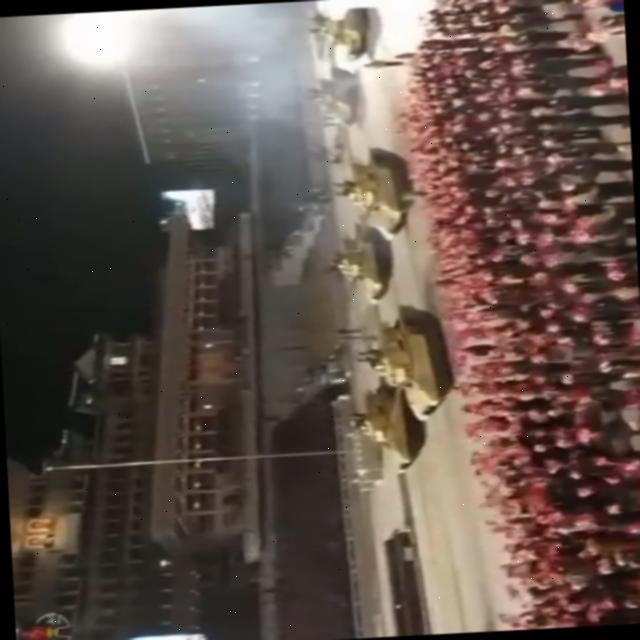north tank: (368, 285, 467, 431), (348, 370, 440, 488), (337, 134, 415, 252), (322, 216, 402, 314), (299, 66, 374, 144), (312, 0, 389, 64)
